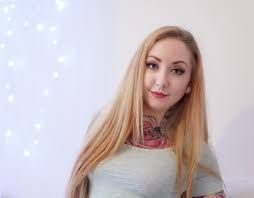no-mask: (138, 35, 194, 110)
